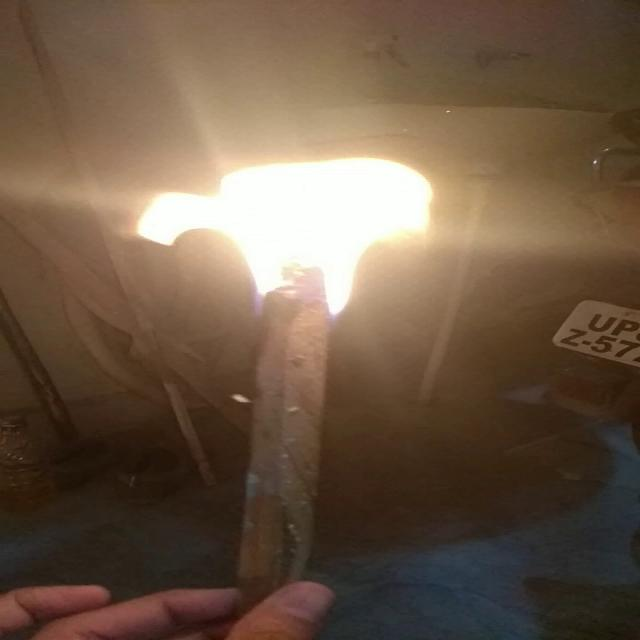fire: (134, 130, 436, 324)
